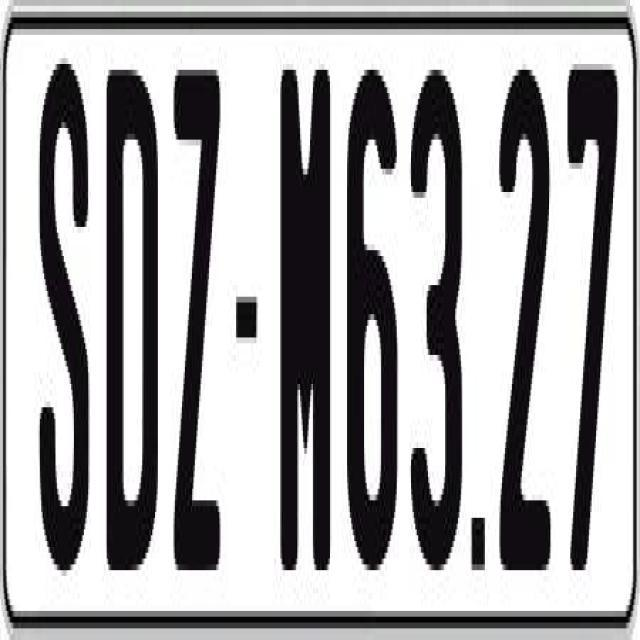2: (496, 58, 554, 570)
3: (406, 52, 466, 588)
6: (346, 52, 398, 582)
7: (563, 58, 619, 570)
D: (102, 52, 154, 588)
M: (278, 58, 336, 594)
S: (40, 47, 96, 564)
Z: (169, 70, 222, 606)
